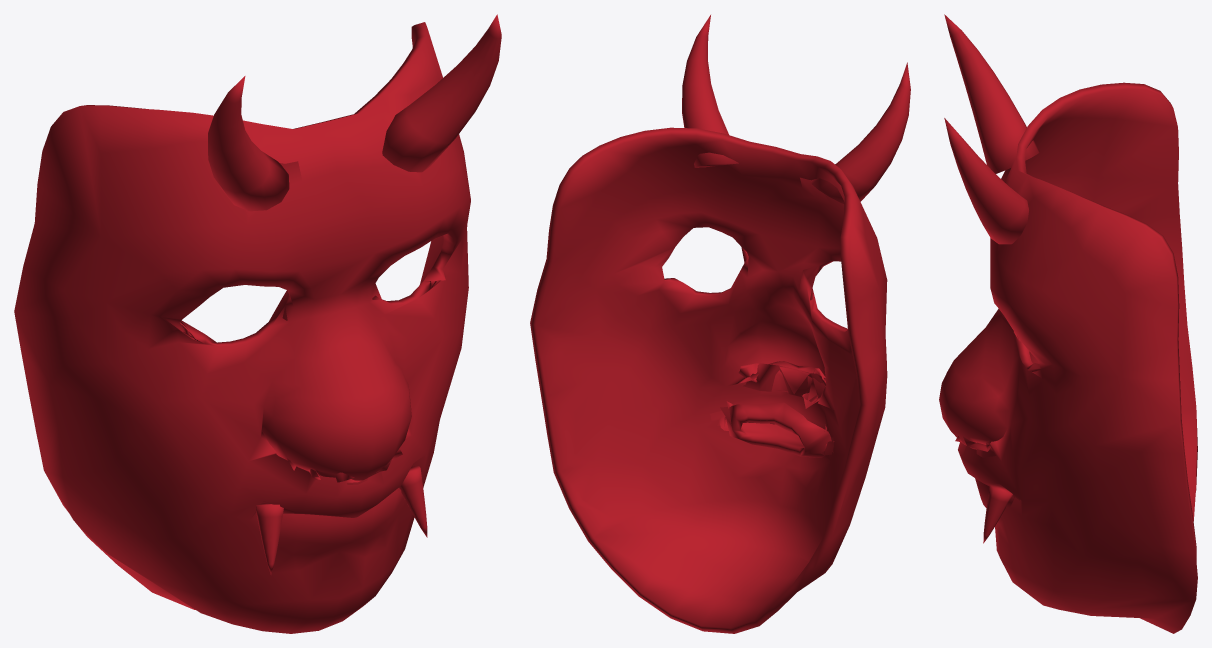
Rendered from oni_mask.glb.
The picture shows the model from 3 angles, left to right: view 1: azimuth 30°, elevation 25°; view 2: azimuth 150°, elevation 25°; view 3: azimuth 270°, elevation 25°; orthographic projection. The views are drawn at different scales.
Parts seen in each view (by area): view 1: oni_mask; view 2: oni_mask; view 3: oni_mask.
Boxes of the visible parts, x1,y1,x2,y2 form: oni_mask: (14, 14, 501, 633); oni_mask: (530, 15, 910, 633); oni_mask: (939, 14, 1197, 633).
Bounding box in the file's own units: 0.1798 × 0.262 × 0.1101.
